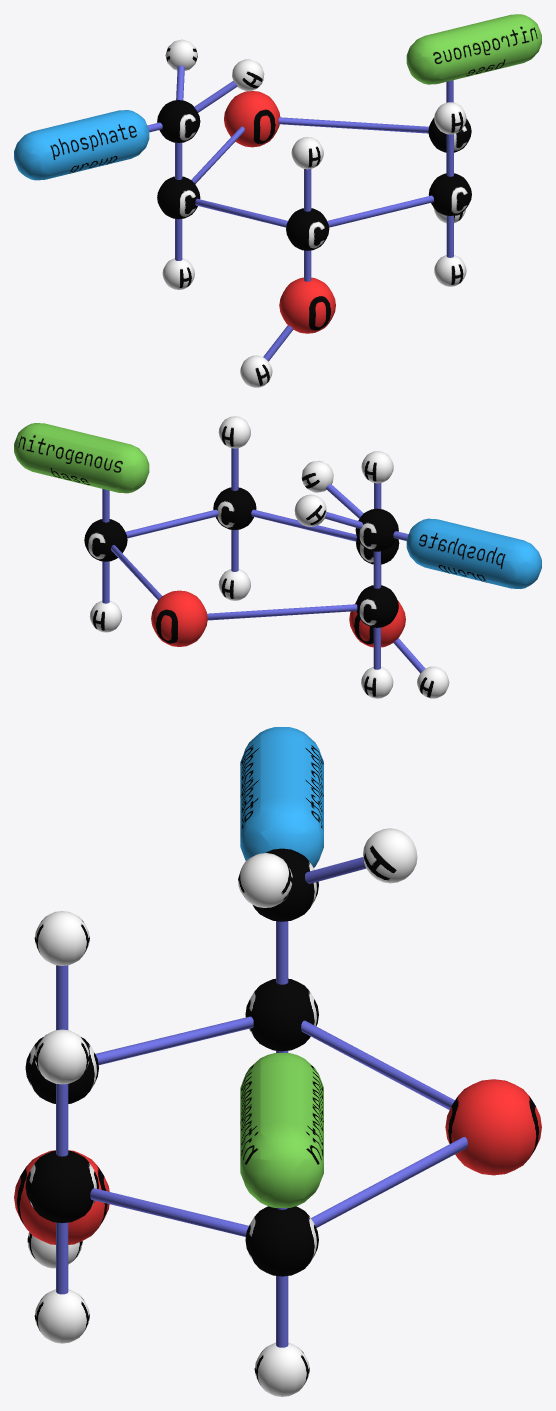
The model's file is chapter-1-section-4-DNA.glb.
3 renders of one model, top to bottom at view 1: azimuth 30°, elevation 25°; view 2: azimuth 150°, elevation 25°; view 3: azimuth 270°, elevation 25°, orthographic. The views are drawn at different scales.
Visible parts, largest first — view 1: Circle, Mball.002, Mball.003, Circle.001, oxygen.006, oxygen.008, carbon.004, Plane.010, Plane.011, Plane.009; view 2: Circle, Mball.002, Mball.003, Circle.001, oxygen.008, carbon.004, Plane.010, Plane.011, oxygen.006, Plane.009; view 3: Circle, Mball.003, Mball.002, Circle.001, oxygen.008, Plane.009, oxygen.006, Plane.010, carbon.004, Plane.011.
Boxes of the visible parts, x1,y1,x2,y2 form: Circle: (157,80,471,289); Mball.002: (14,110,149,180); Mball.003: (406,14,541,84); Circle.001: (191,117,433,227); oxygen.006: (279,277,335,333); oxygen.008: (224,91,280,147); carbon.004: (157,100,200,142); Plane.010: (194,59,264,112); Plane.011: (240,325,293,387); Plane.009: (165,39,197,100); Circle: (84,416,399,698); Mball.002: (406,518,541,588); Mball.003: (14,423,149,493); Circle.001: (111,509,357,620); oxygen.008: (151,590,207,646); carbon.004: (355,508,398,551); Plane.010: (301,460,363,518); Plane.011: (393,638,449,698); oxygen.006: (349,601,405,647); Plane.009: (294,494,362,528); Circle: (25,911,318,1396); Mball.003: (240,1053,323,1207); Mball.002: (240,727,323,867); Circle.001: (90,1016,467,1236); oxygen.008: (445,1079,541,1175); Plane.009: (305,828,417,883); oxygen.006: (14,1150,109,1244); Plane.010: (238,853,292,907); carbon.004: (252,848,318,921); Plane.011: (27,1232,82,1268).
Bounding box in the file's own units: 4.29 × 2.1 × 2.21.
6 materials, 5 textured.
